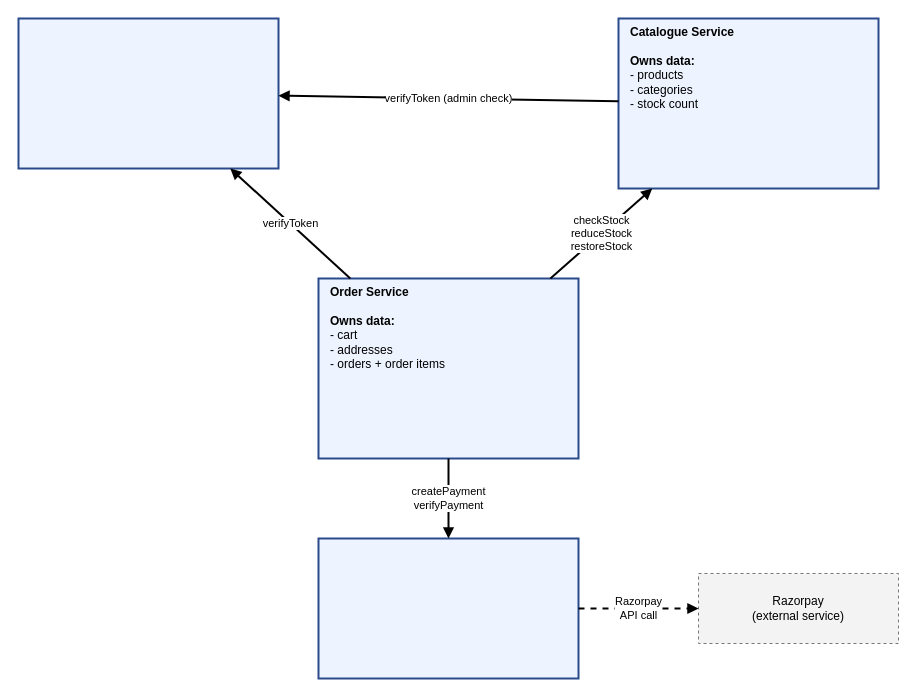
Some shapes in this 916 by 696 pixel diagram are drawn without their labels. The shapes that lost their labels are listed below. From the top down, each one's centre as x and y in pixels, then its label:
At (x=148, y=93): "Auth Service Owns data: - user accounts - login data, roles".
At (x=448, y=608): "Payment Service Owns data: - payment records - (Razorpay ids, status)".
